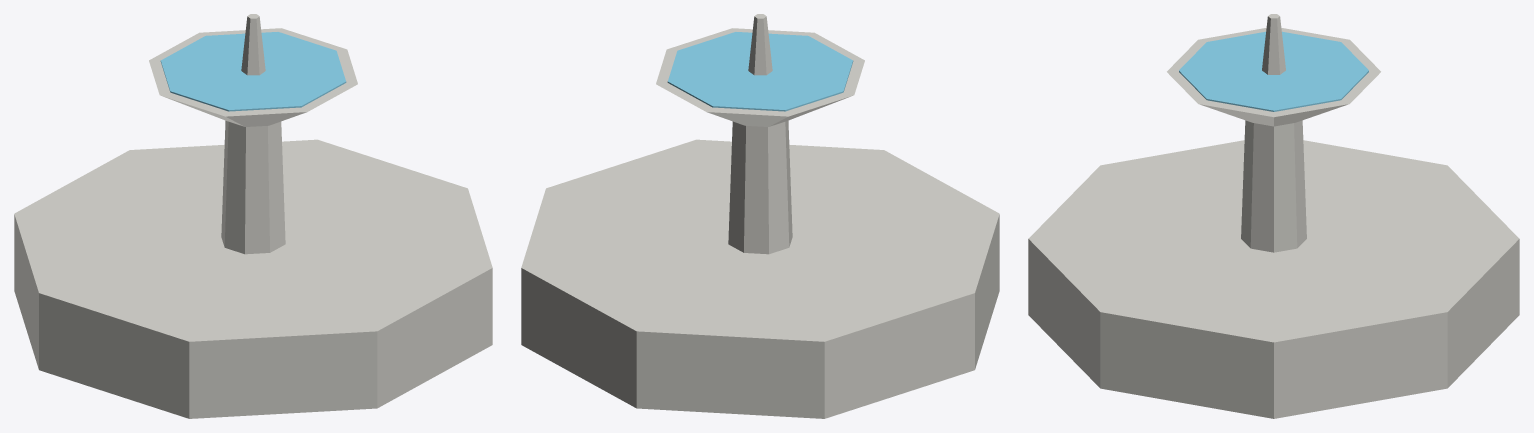
Rendered from Fountain.glb.
3 views of the same model, side by side, from view 1: azimuth 30°, elevation 25°; view 2: azimuth 150°, elevation 25°; view 3: azimuth 270°, elevation 25° (orthographic).
Parts seen in each view (by area): view 1: Fountain; view 2: Fountain; view 3: Fountain.
Part boxes in pixels (left/top/right/bottom): Fountain: left=14, top=14, right=492, bottom=418; Fountain: left=521, top=14, right=999, bottom=418; Fountain: left=1028, top=14, right=1519, bottom=418.
Size of the model in its own units: 3.2 by 2.15 by 3.2.
